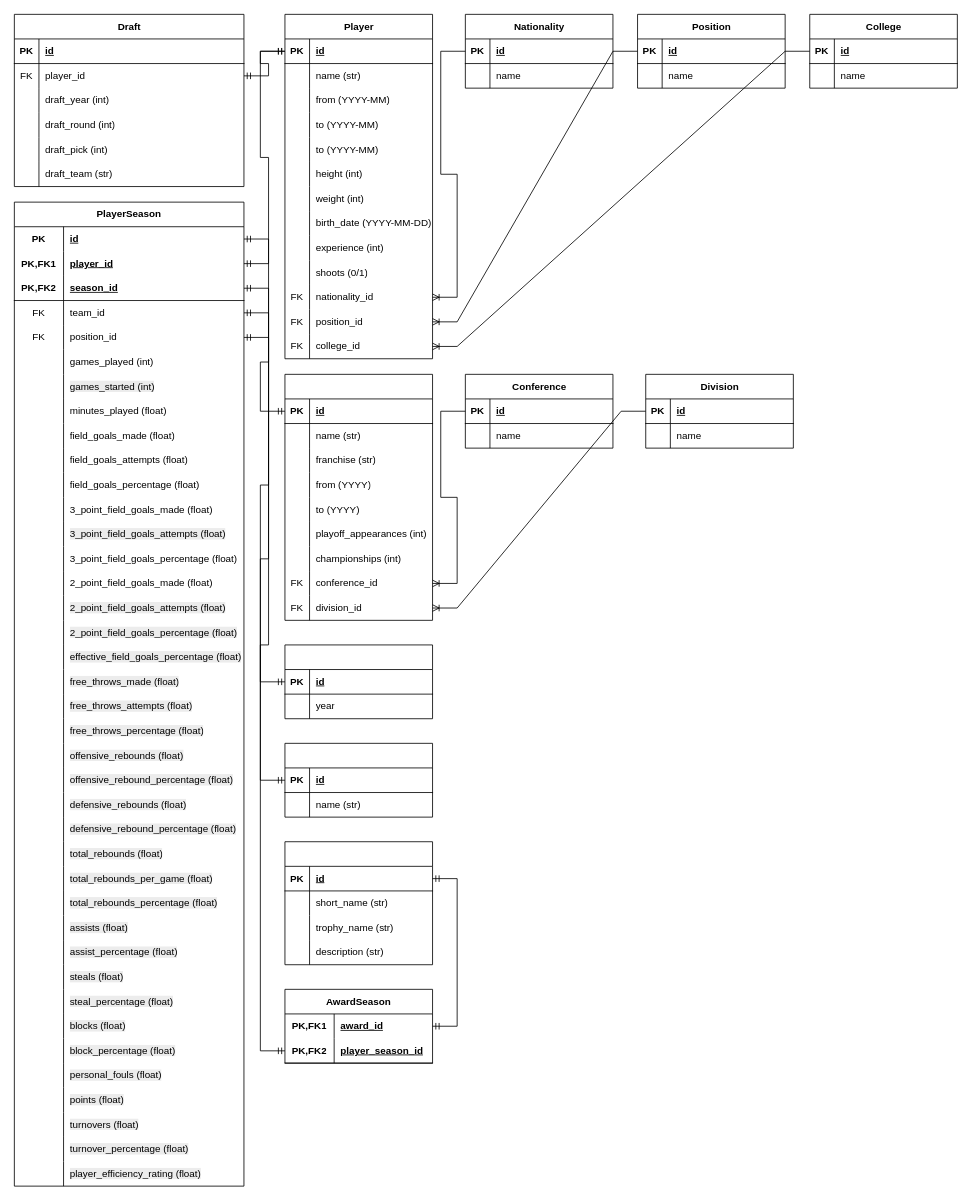
The diagram is 972 pixels wide and 1200 high, and some of its shapes have lost their labels. Each missing label, with the box of its shape:
Award: (284, 841, 433, 965)
Position: (284, 743, 433, 817)
Season: (284, 644, 433, 719)
Team: (284, 374, 433, 620)
